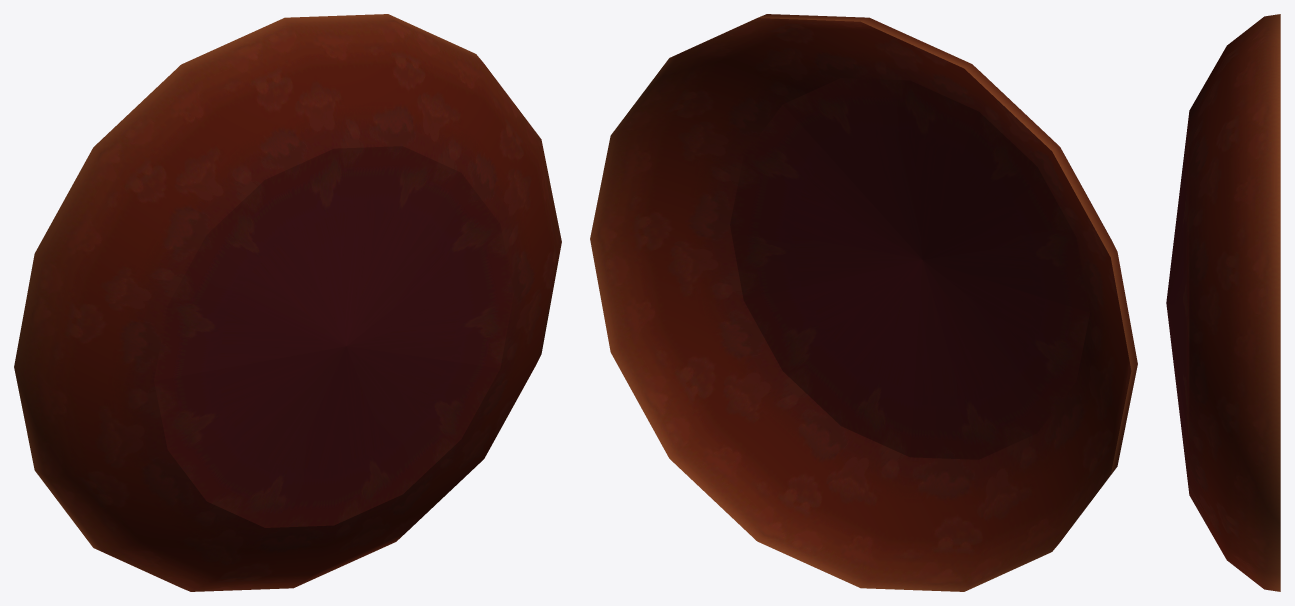
The model's file is Cylinder01_81090a99__ZombiesII_depot_diffuse_13_d2c610d1_c1f257.obj.
3 views of the same model, side by side, from view 1: azimuth 30°, elevation 25°; view 2: azimuth 150°, elevation 25°; view 3: azimuth 270°, elevation 25° (orthographic). The views are drawn at different scales.
Bounding box in the file's own units: 101 × 101 × 19.91.
1 material, 1 textured.
